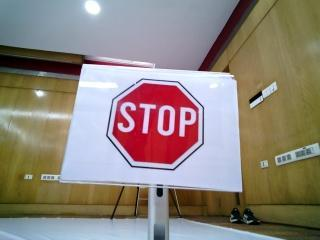stop: (95, 69, 225, 180)
